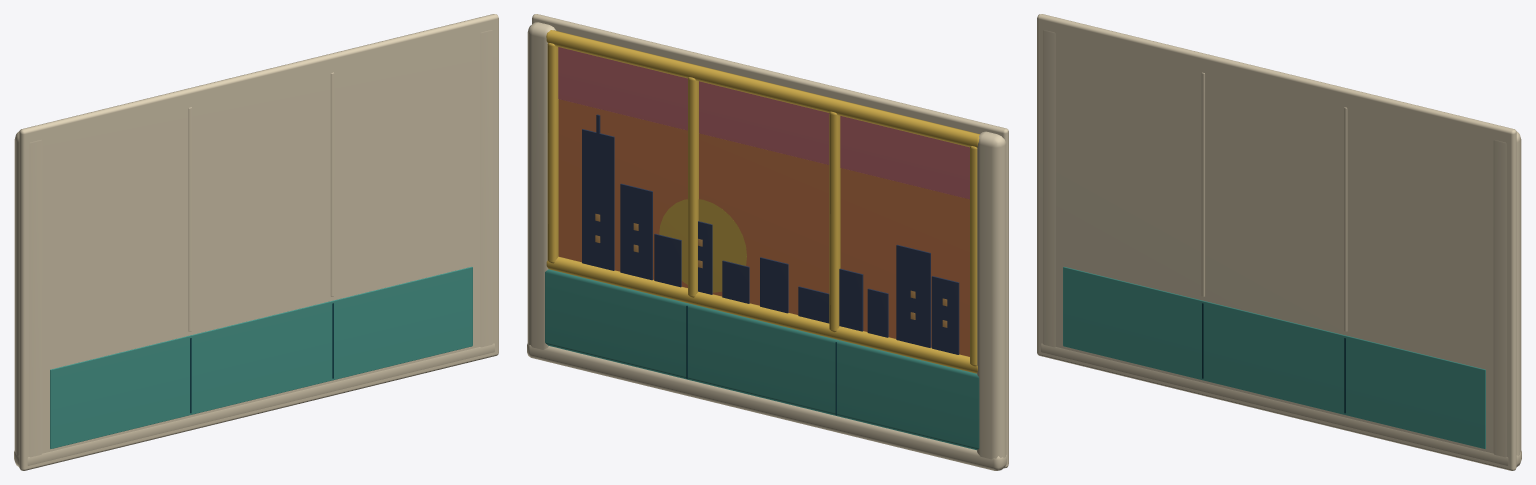
The model's file is window_module.glb.
3 renders of one model, left to right at view 1: azimuth 30°, elevation 25°; view 2: azimuth 150°, elevation 25°; view 3: azimuth 330°, elevation 25°, orthographic.
Visible parts, largest first — view 1: WindowModule_Geometry; view 2: WindowModule_Geometry; view 3: WindowModule_Geometry.
Boxes of the visible parts, <box> form: WindowModule_Geometry: <box>14,14,498,470</box>; WindowModule_Geometry: <box>527,14,1008,470</box>; WindowModule_Geometry: <box>1037,14,1521,470</box>.
Size of the model in its own units: 8.8 by 6 by 0.3895.
